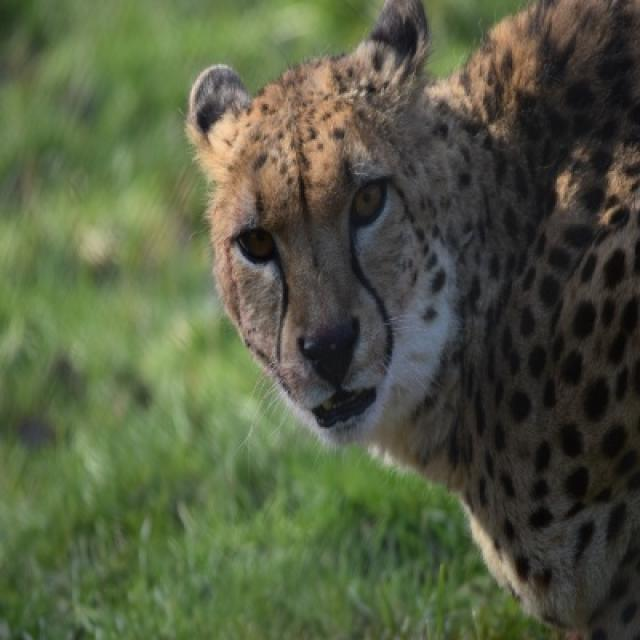Cheetah: (184, 0, 638, 638)
